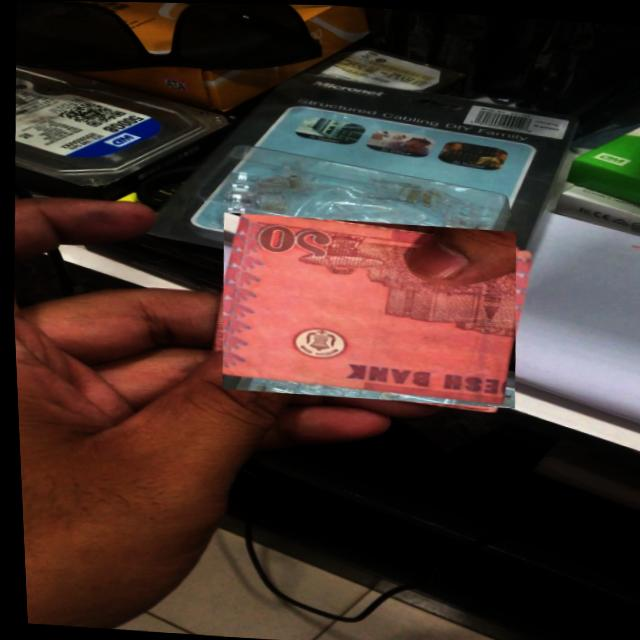Taka: (213, 212, 521, 407)
